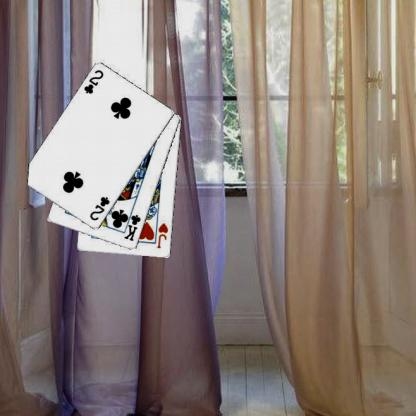2C: (87, 194, 111, 222), (82, 67, 105, 95)
JH: (155, 220, 169, 250)
KC: (120, 207, 142, 242)
